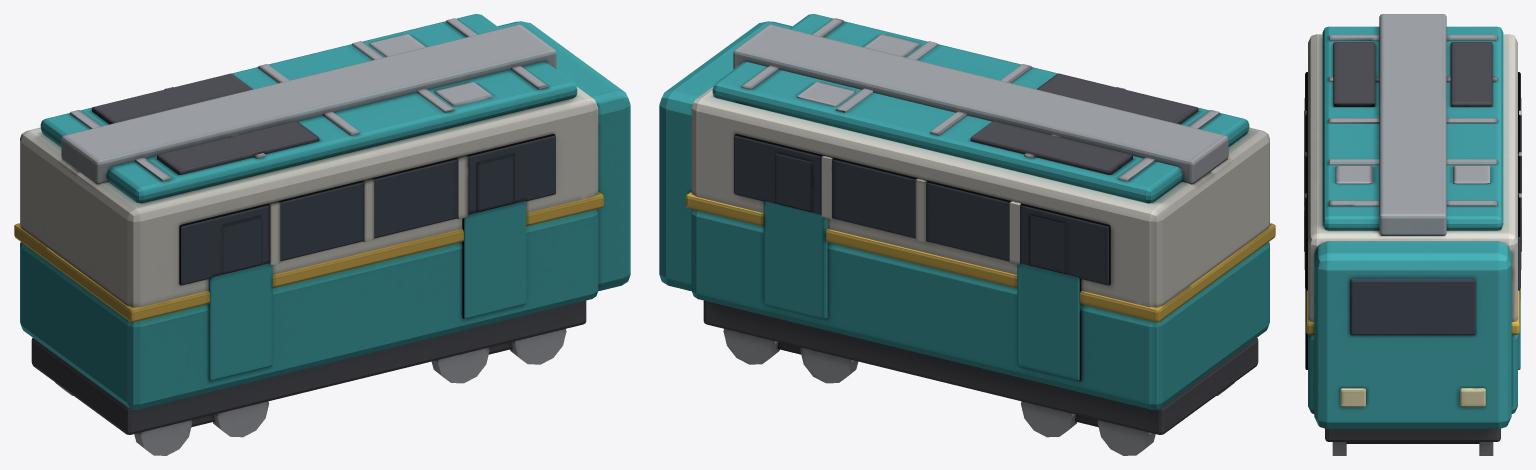
Rendered from train_cab.glb.
3 renders of one model, left to right at view 1: azimuth 30°, elevation 25°; view 2: azimuth 150°, elevation 25°; view 3: azimuth 270°, elevation 25°, orthographic. The views are drawn at different scales.
Parts seen in each view (by area): view 1: train_cab; view 2: train_cab; view 3: train_cab.
Part boxes in pixels (box(x1,y1,x2,y2)): train_cab: box(14, 14, 630, 455); train_cab: box(659, 14, 1275, 455); train_cab: box(1304, 14, 1521, 455).
Bounding box in the file's own units: 5.36 × 2.84 × 2.18.
Materials: 7 (7 with a texture image).
